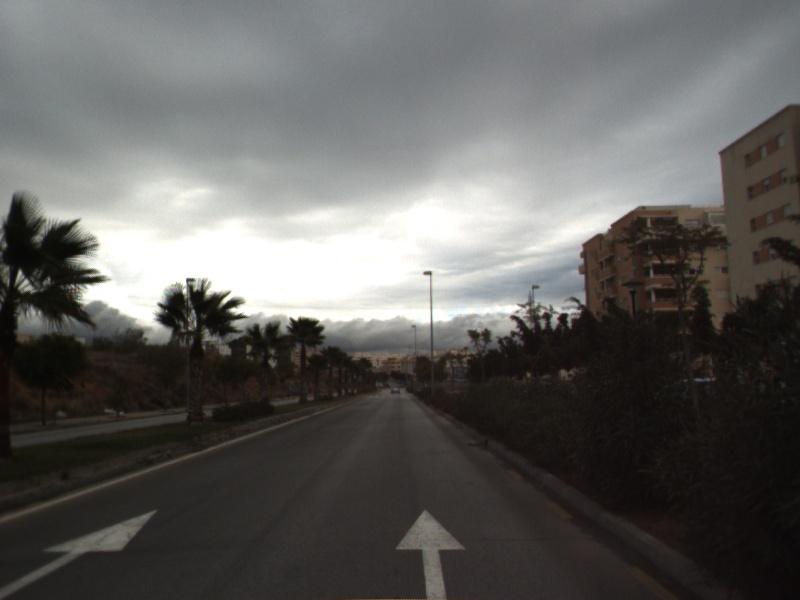STRAIGHT: (1, 507, 160, 600), (393, 507, 469, 600)
